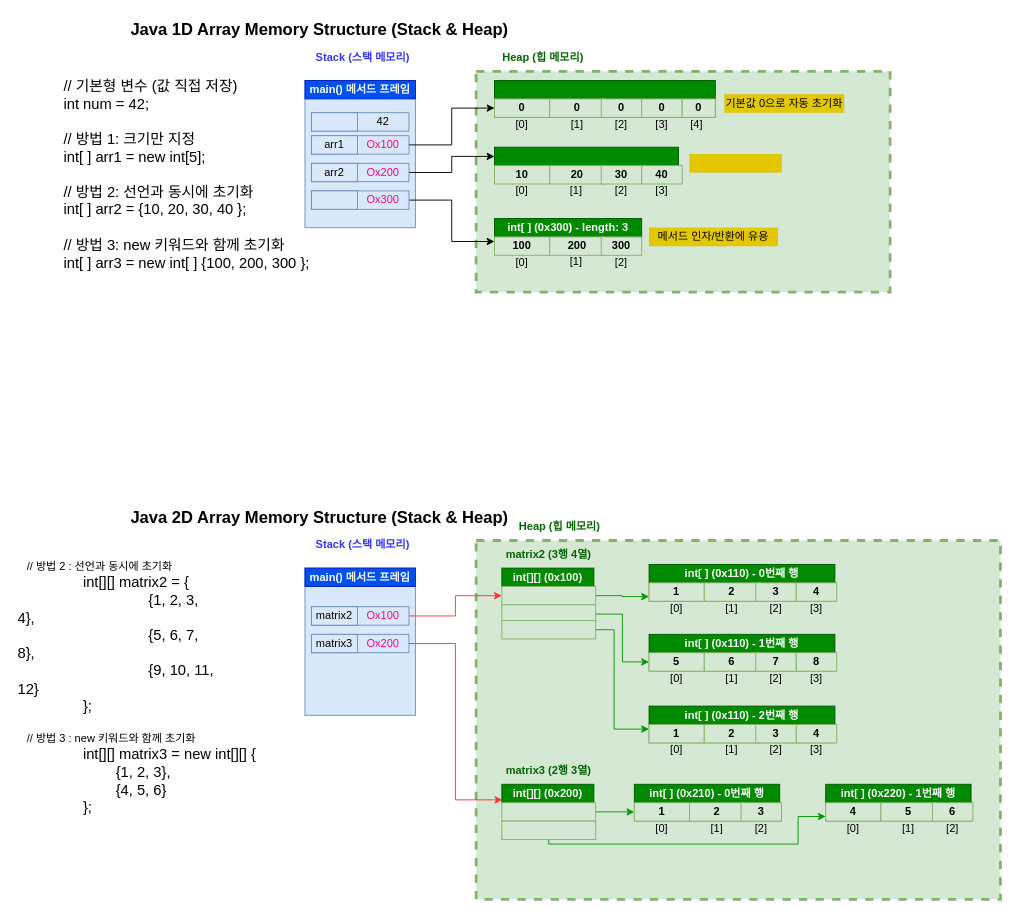
Some shapes in this 1018 by 916 pixel diagram are drawn without their labels. Each missing label, with the centre of its shape:
[0] 0x110: pixel 548 595
[0] 0x210: pixel 548 811
[1] 0x120: pixel 548 613
[1] 0x220: pixel 548 830
[2] 0x130: pixel 548 629
arr3: pixel 333 199
int[ ] (0x100) - length: 5: pixel 604 89
int[ ] (0x200) - length: 4: pixel 586 156
num: pixel 333 121
가장 간결한 방법: pixel 735 163
